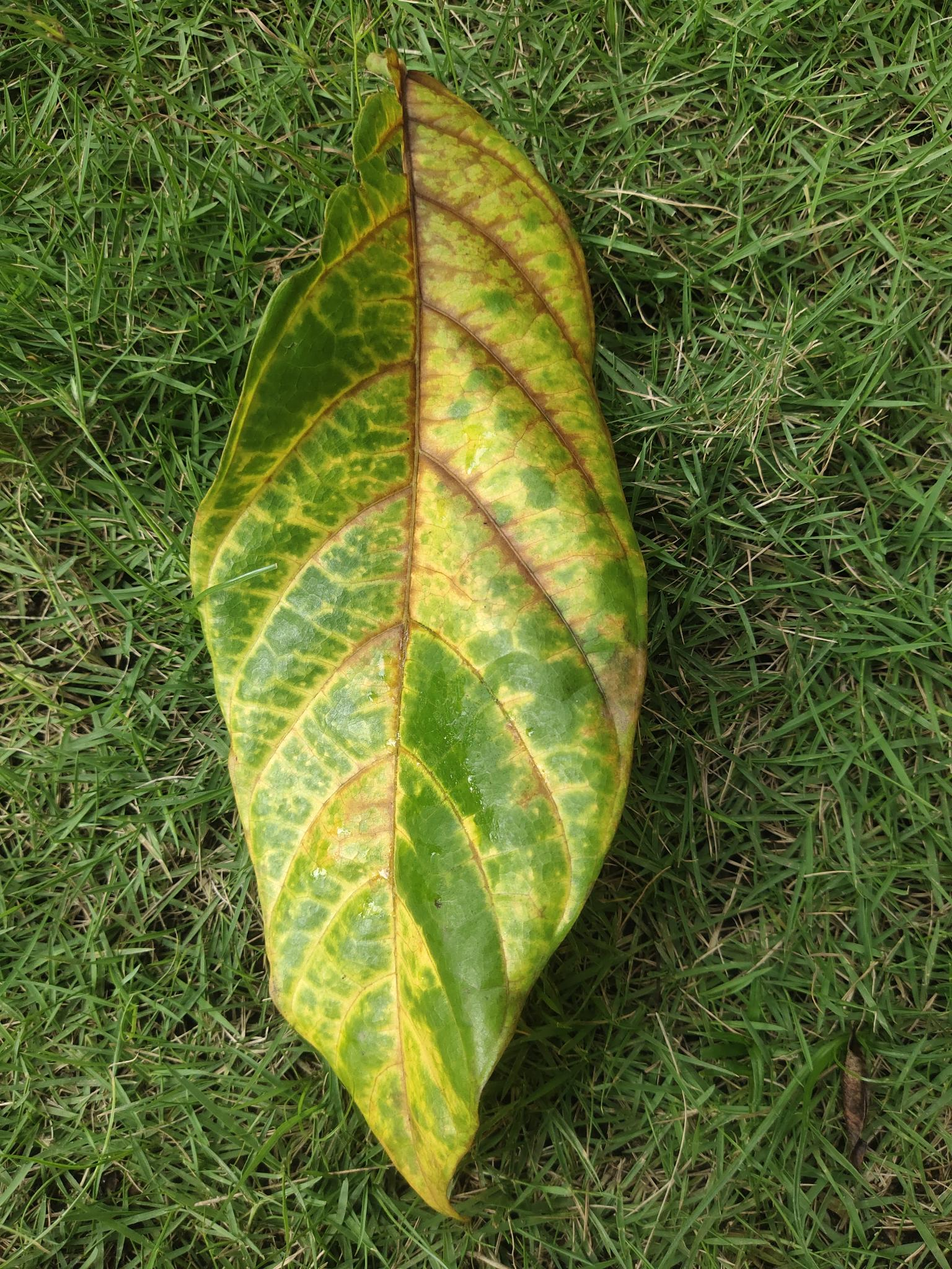Fosforo: (197, 29, 641, 1234)
